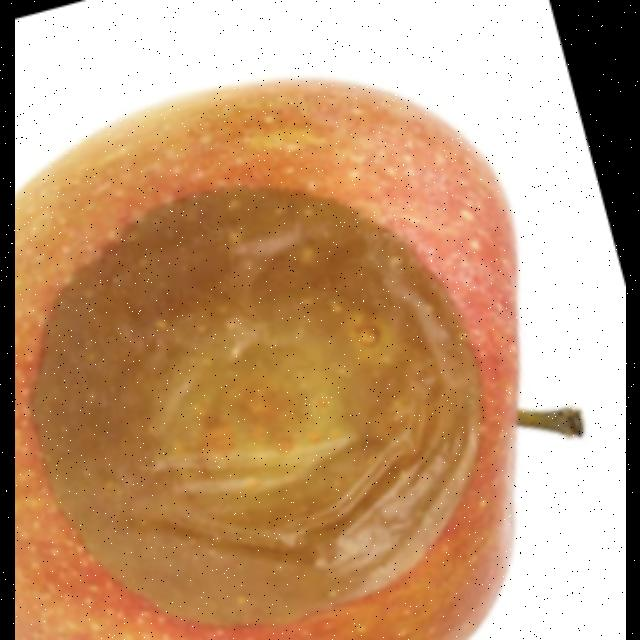Apel Tidak Segar: (15, 70, 587, 640)
